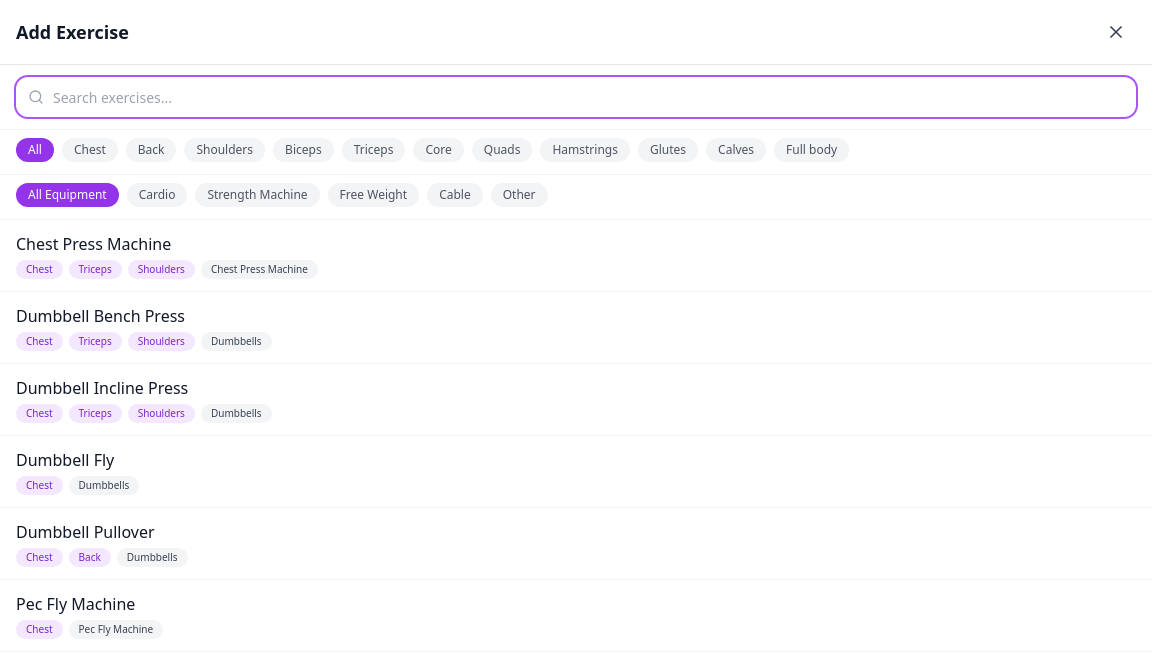
ExercisePicker — search › filters by muscle-group keyword match
The image size is (1152, 653).
In the field with placeholder "Search exercises...": (576, 97) x1=16 y1=77 x2=1136 y2=117, type "biceps"
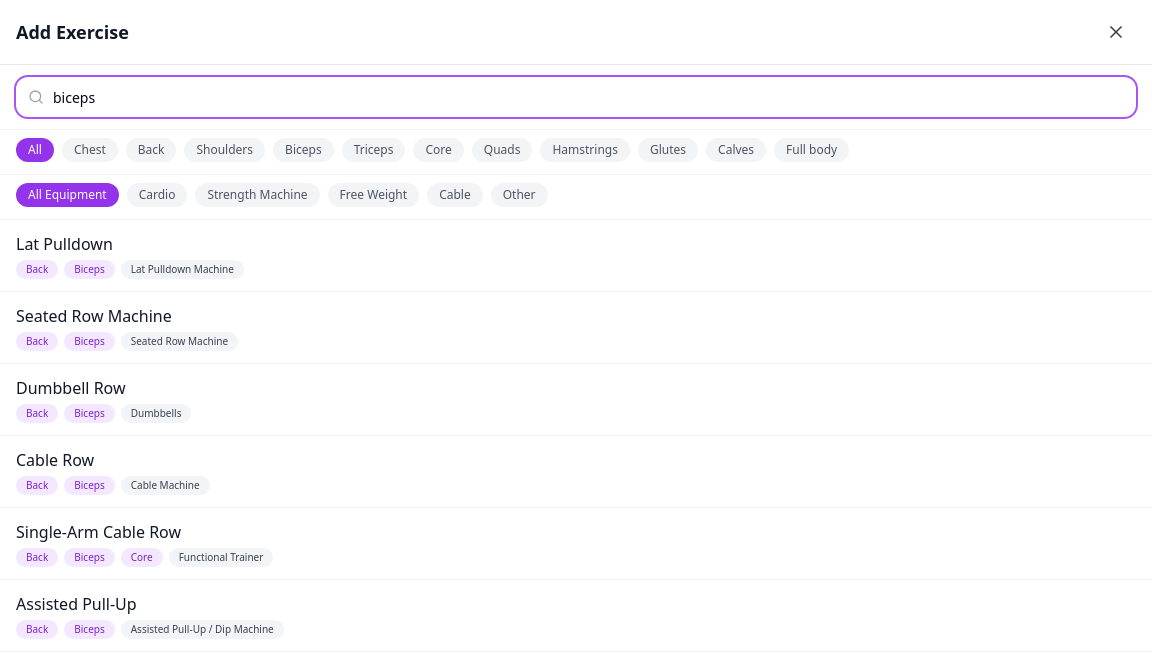
Expected: the text "Lat Pulldown" is shown, x1=16 y1=232 x2=113 y2=256
